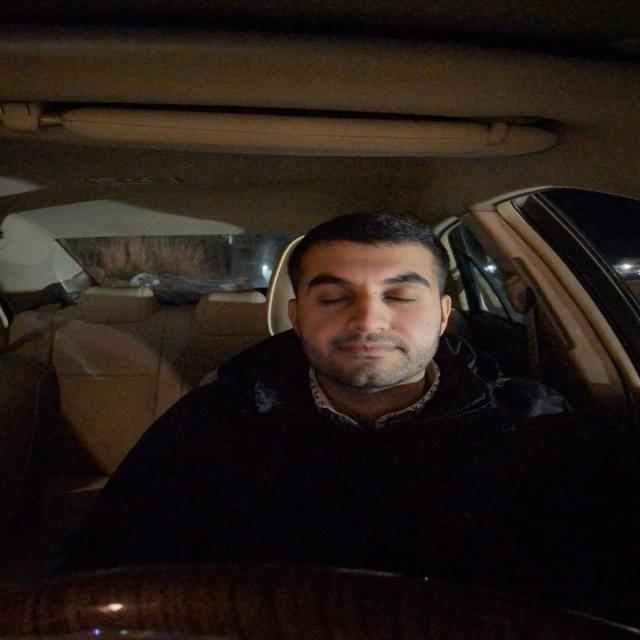drowsy: (288, 226, 461, 392)
